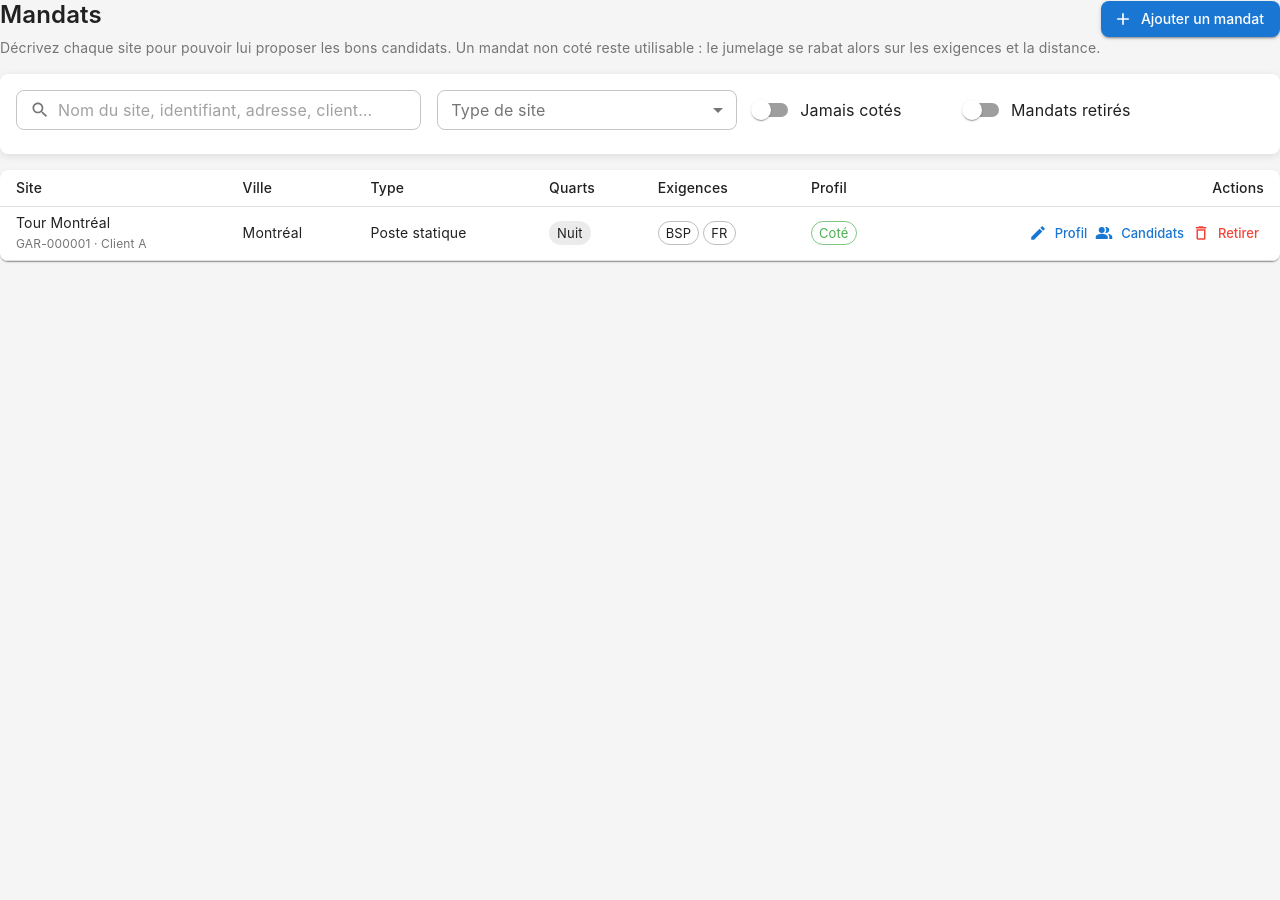
MandatesPage › ajout et retrait › affiche le message du serveur quand l identifiant est déjà pris
Expected: the text "Tour Montréal" is shown, [16, 214, 110, 231]
Click the button "Ajouter un mandat". click: x=1190, y=19
box: [1101, 1, 1279, 37]
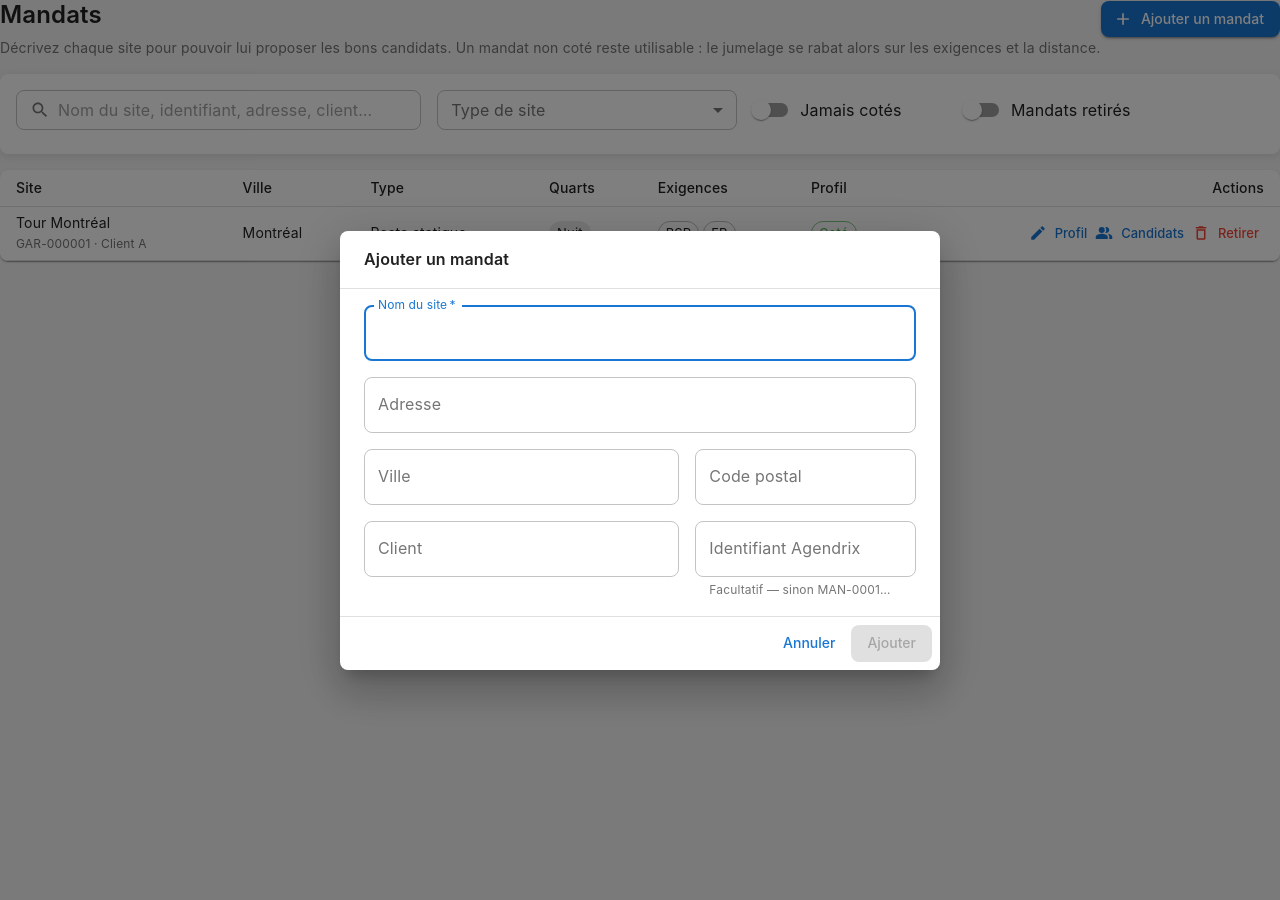
Type "Doublon" into the field labelled "Nom du site *". click: x=640, y=333
box: [364, 305, 916, 361]
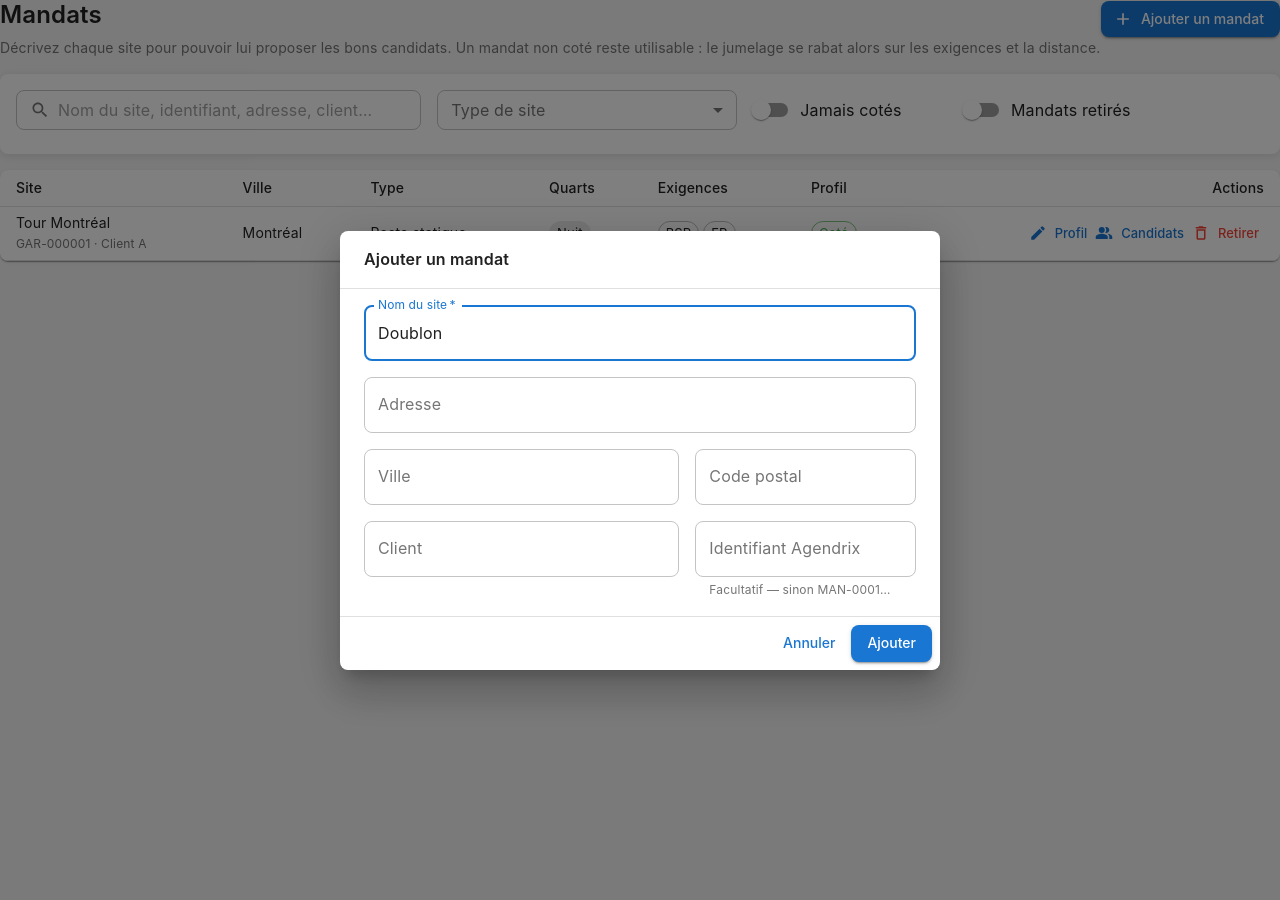
Click the button "Ajouter". click: x=892, y=643
box: [851, 625, 932, 662]
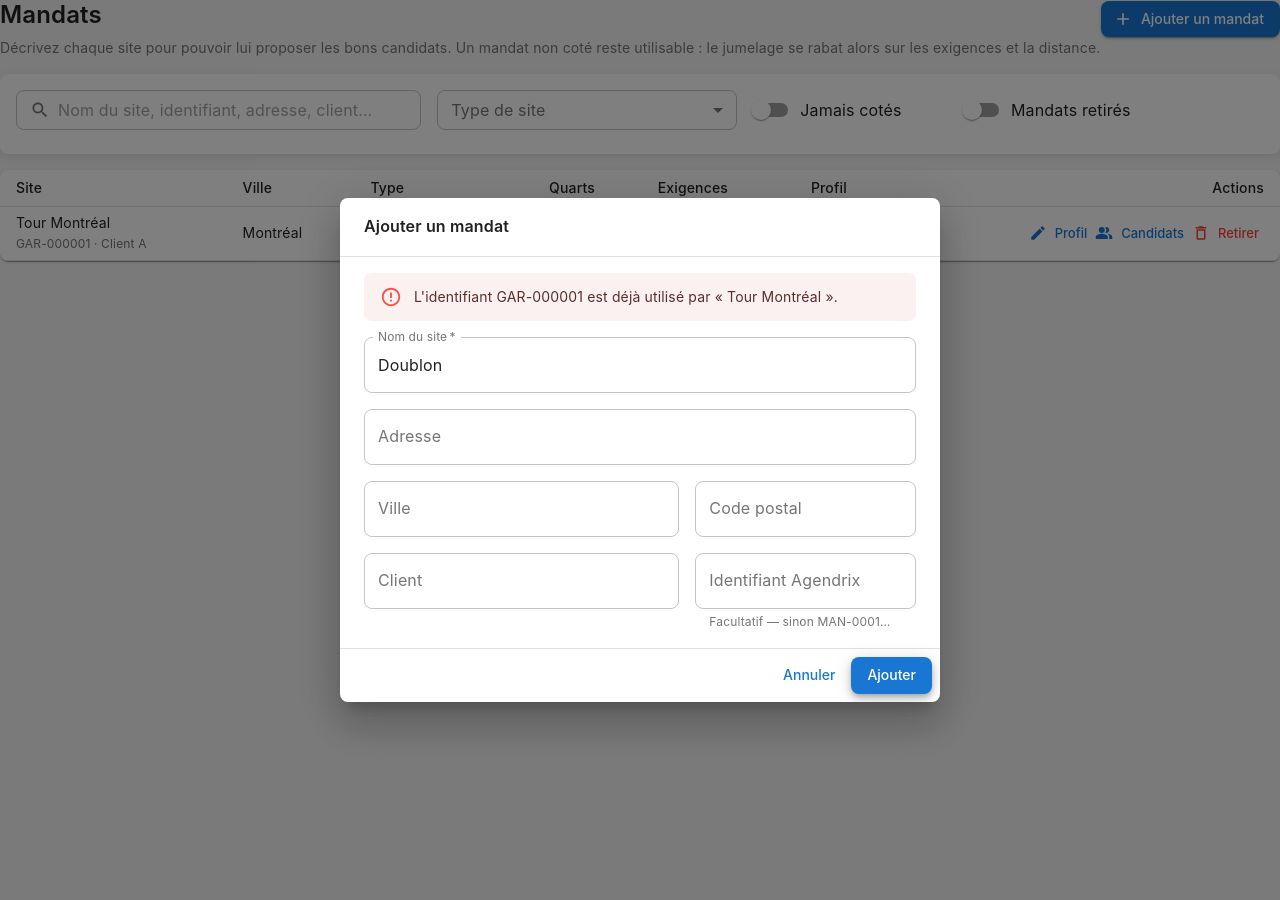
Expected: the text "déjà utilisé par « Tour Montréal »" is shown, [414, 288, 838, 305]
